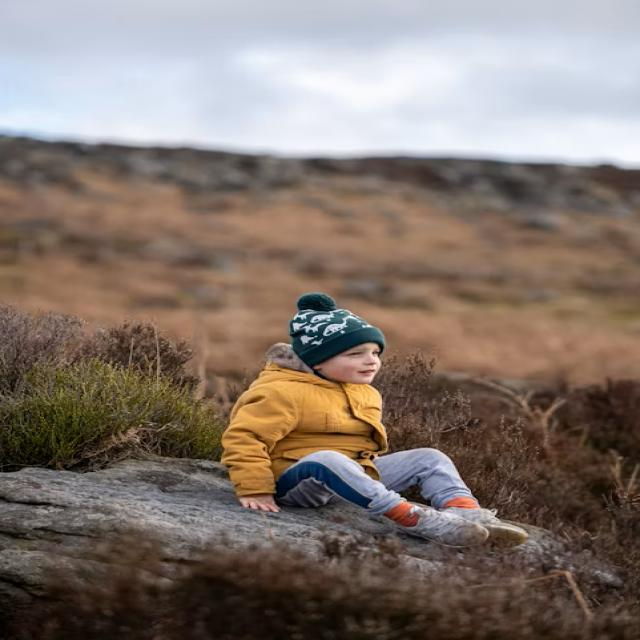Edited images: (205, 262, 550, 573)
